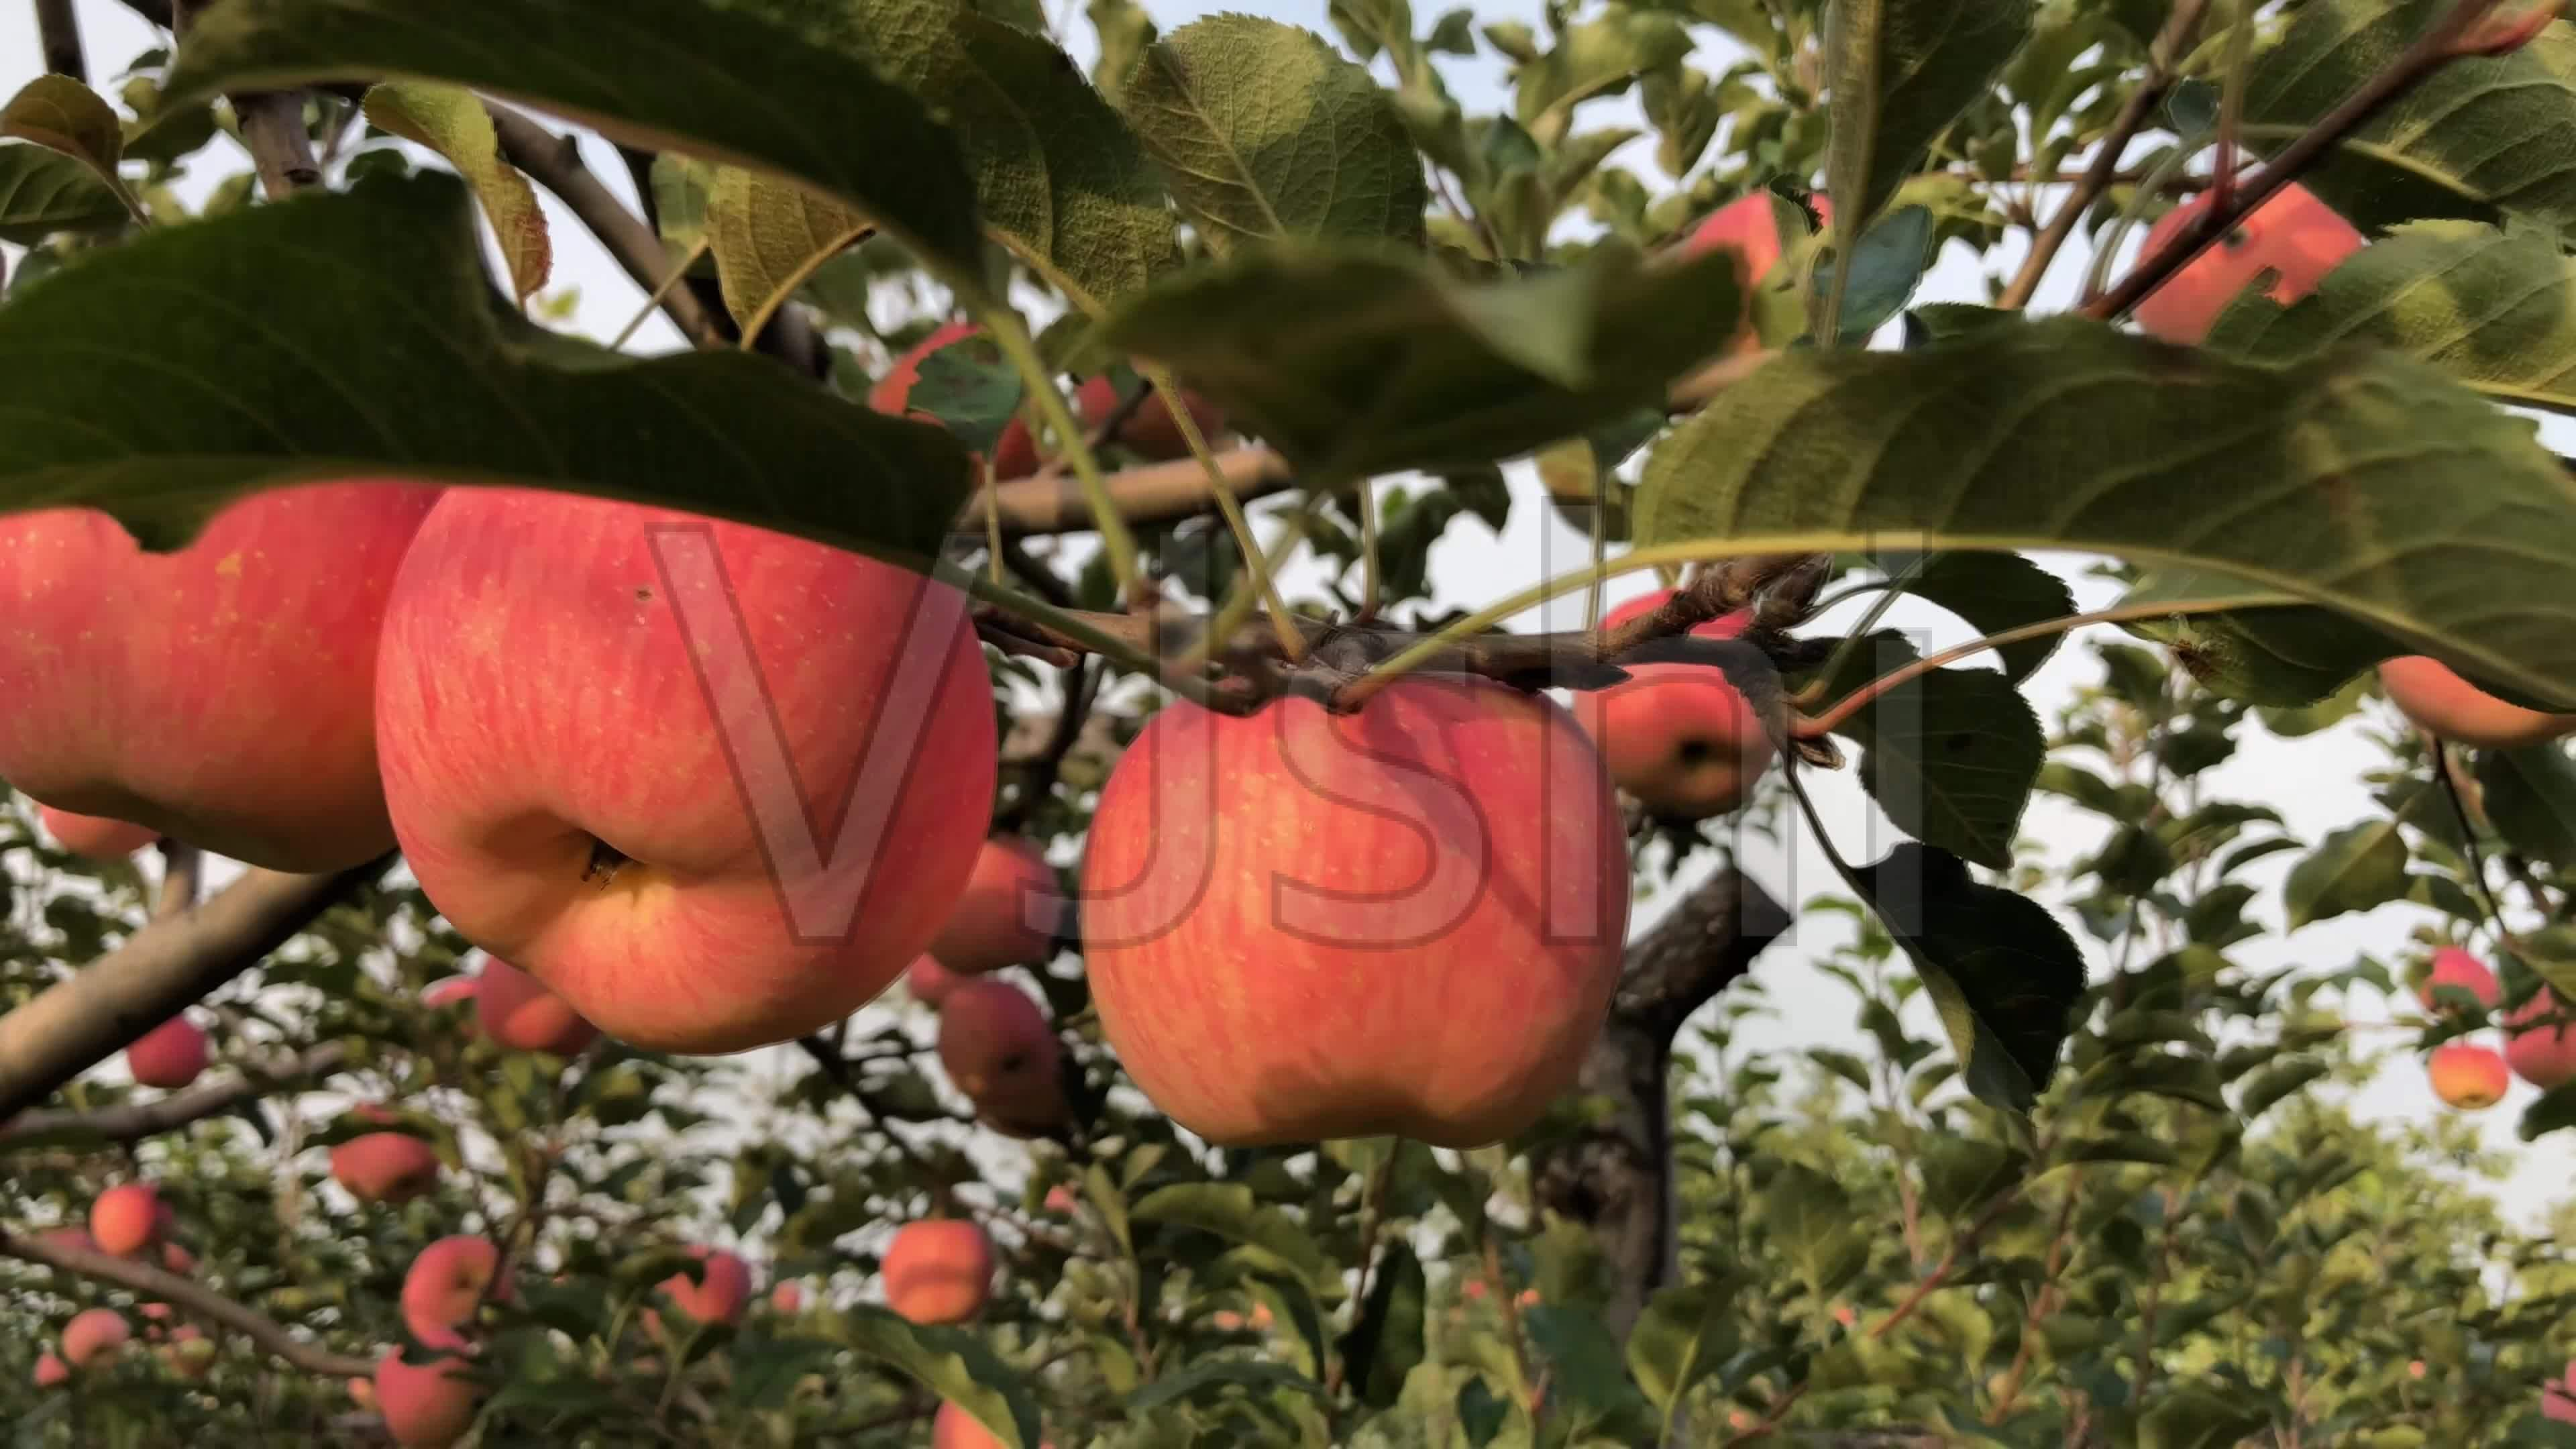apple: (364, 446, 1008, 1053), (1083, 630, 1633, 1143), (9, 474, 483, 872)
